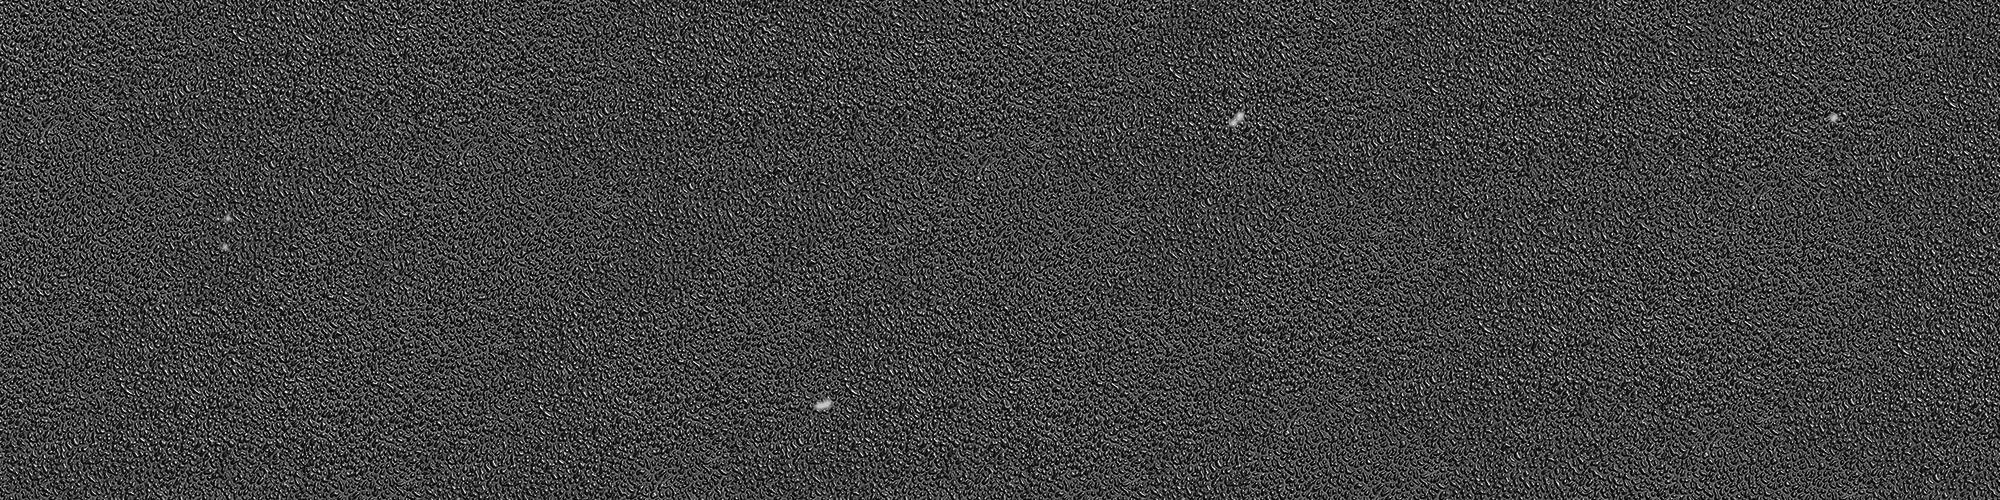Particles: (805, 392, 838, 415), (1222, 107, 1251, 130), (1825, 111, 1841, 128)
